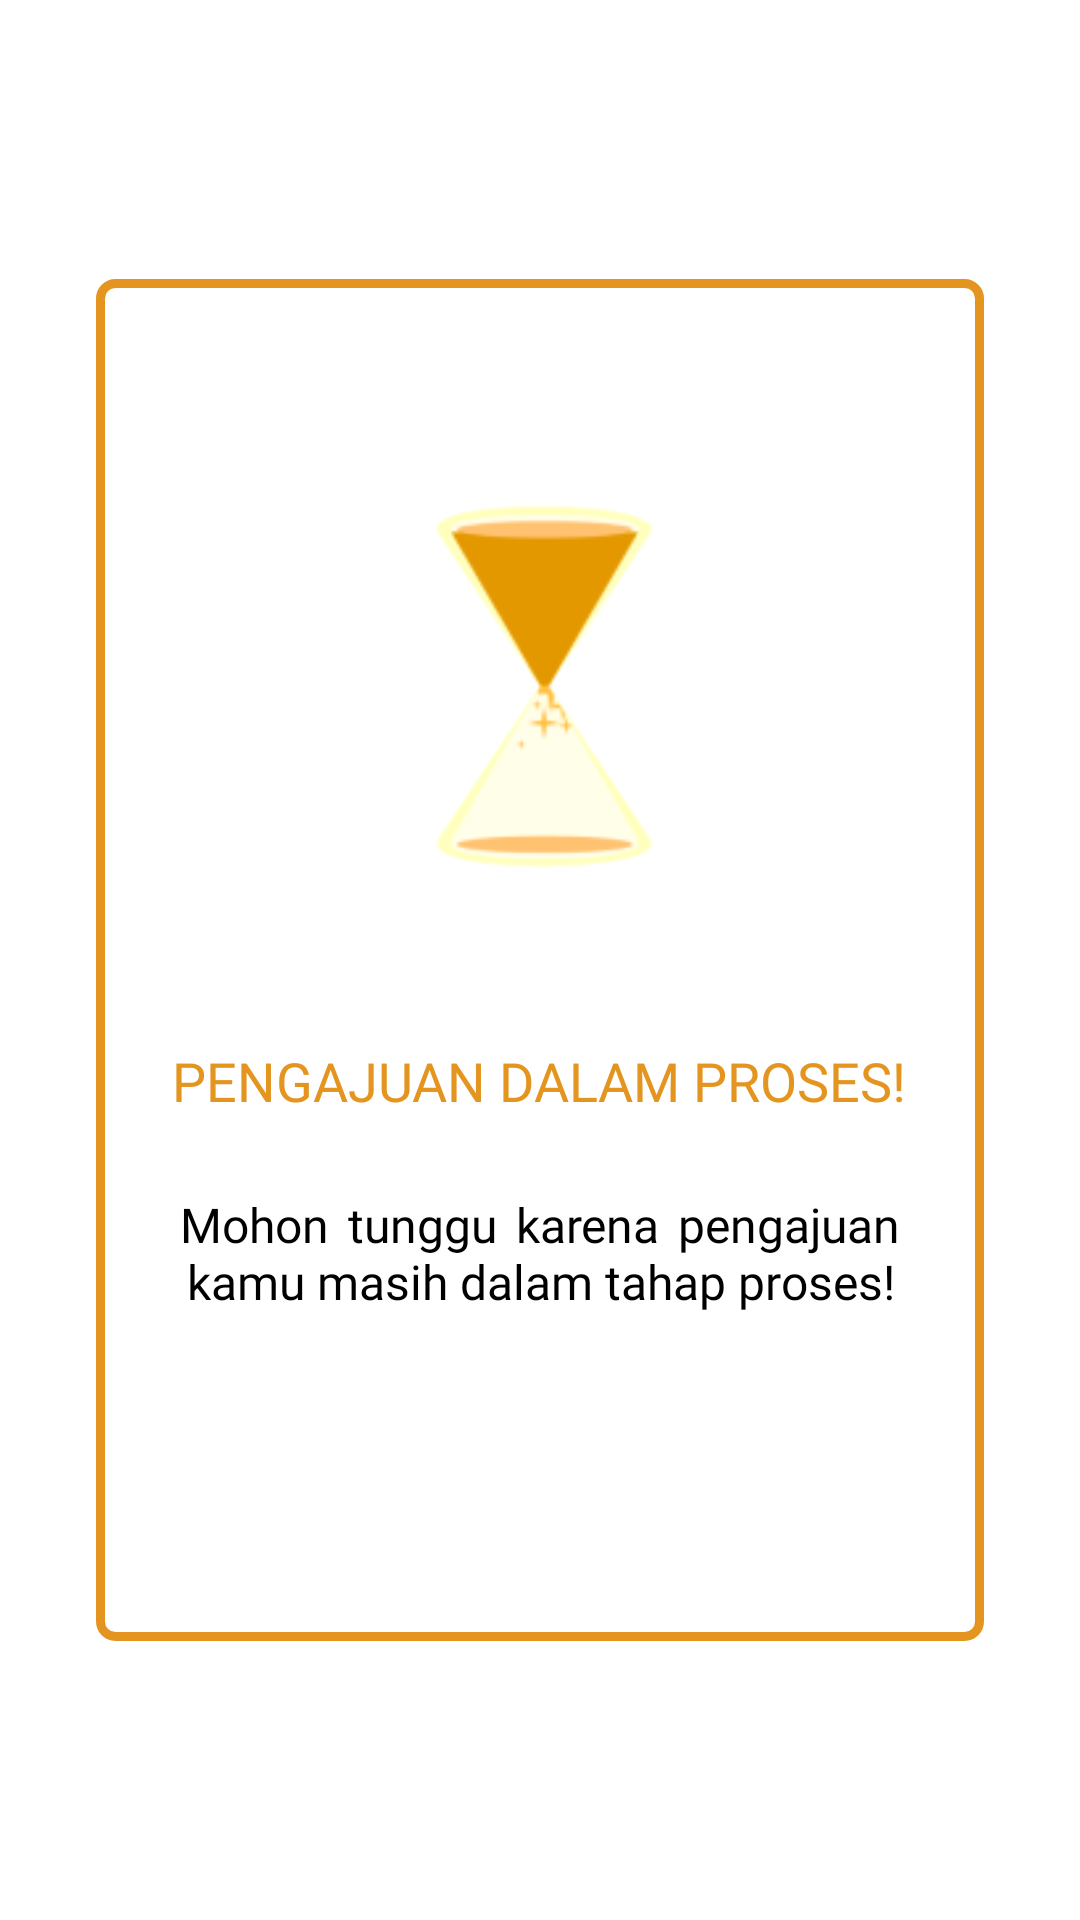

Named icons in this screenshot (1080x1920) and their bounding boxes, (x1, y1, x2, y2):
process: (437, 507, 652, 866)
